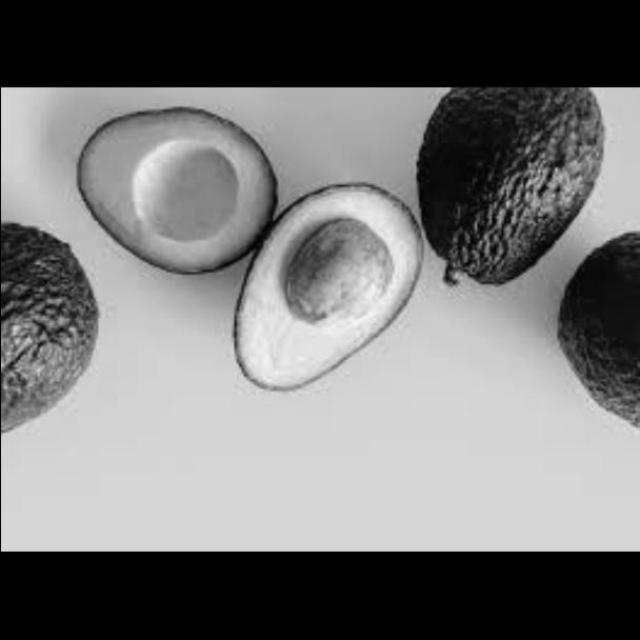avocado: (199, 180, 437, 454), (60, 92, 279, 287), (402, 98, 615, 287), (0, 207, 99, 498), (532, 236, 639, 444)
